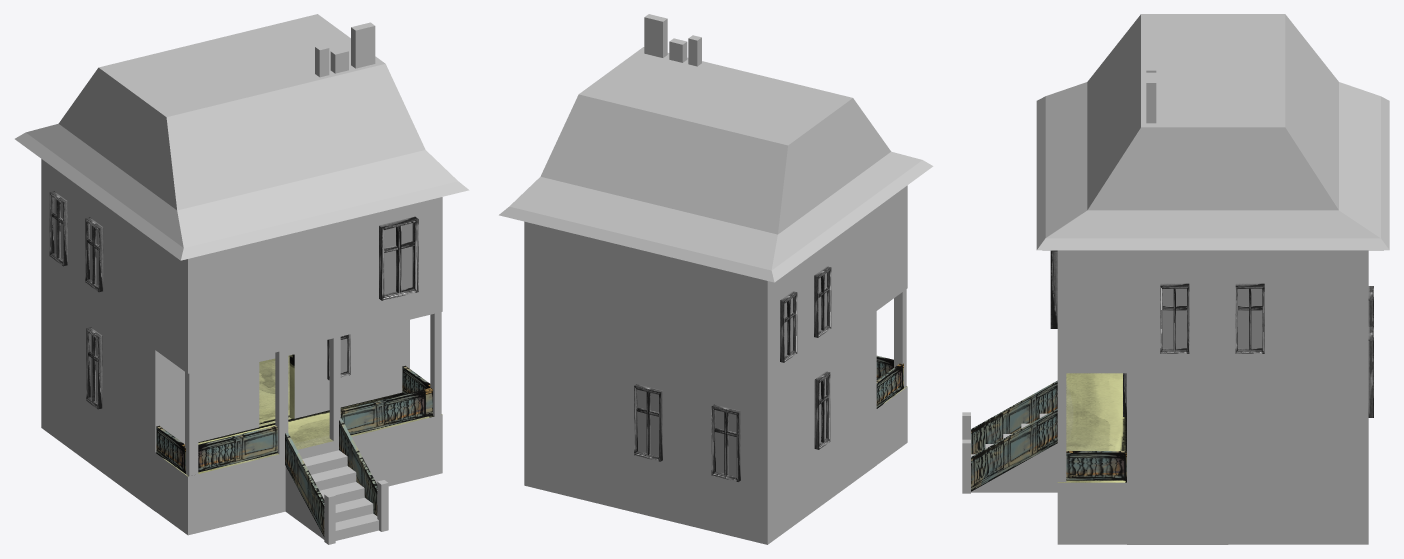
Rendered from House07.fbx.
3 views of the same model, side by side, from view 1: azimuth 30°, elevation 25°; view 2: azimuth 150°, elevation 25°; view 3: azimuth 270°, elevation 25° (orthographic). The views are drawn at different scales.
Parts seen in each view (by area): view 1: House07; view 2: House07; view 3: House07.
Boxes of the visible parts, <box> form: House07: <box>15,14,469,544</box>; House07: <box>499,14,933,544</box>; House07: <box>962,14,1389,544</box>.
Bounding box in the file's own units: 15.88 × 22.24 × 19.18.
